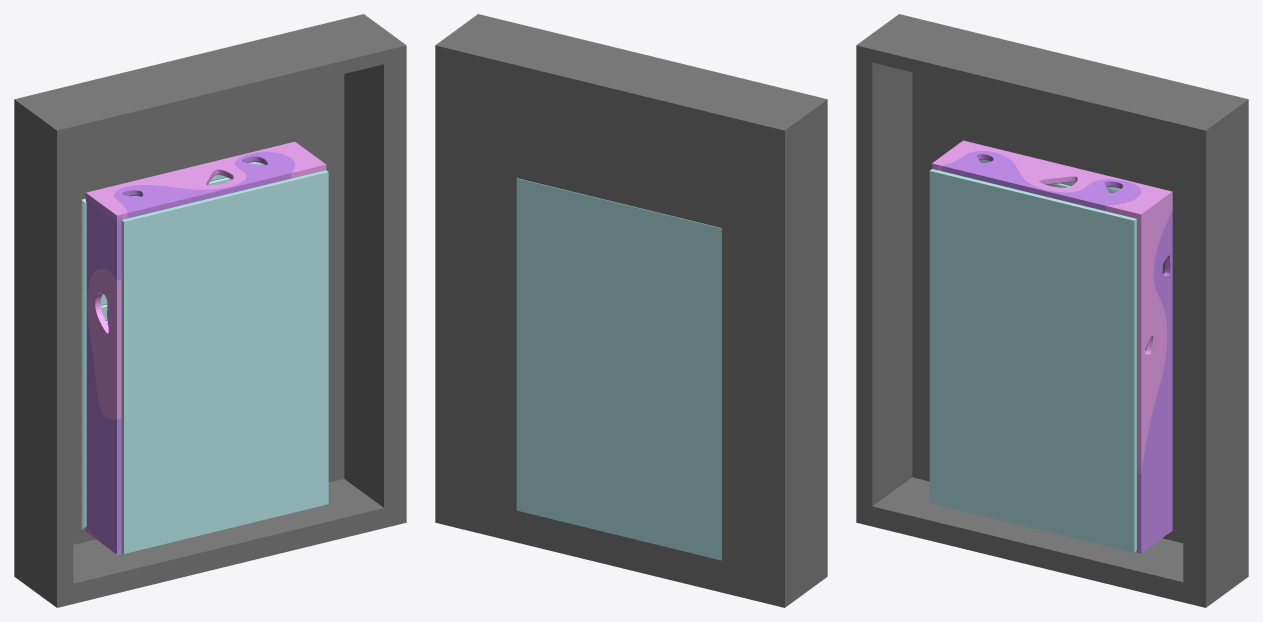
Rendered from Video Room.fbx.
The picture shows the model from 3 angles, left to right: view 1: azimuth 30°, elevation 25°; view 2: azimuth 150°, elevation 25°; view 3: azimuth 330°, elevation 25°; orthographic projection.
Visible parts, largest first — view 1: Object_5, roof, wall1, wall2, floor2; view 2: Object_5, floor2; view 3: Object_5, roof, wall1, wall2.
Boxes of the visible parts, left/top/right/bottom form: Object_5: left=14, top=14, right=406, bottom=607; roof: left=121, top=170, right=328, bottom=553; wall1: left=85, top=151, right=294, bottom=554; wall2: left=85, top=141, right=326, bottom=554; floor2: left=81, top=162, right=264, bottom=529; Object_5: left=435, top=14, right=827, bottom=607; floor2: left=516, top=178, right=721, bottom=560; Object_5: left=856, top=14, right=1248, bottom=607; roof: left=929, top=169, right=1136, bottom=552; wall1: left=932, top=151, right=1172, bottom=553; wall2: left=932, top=140, right=1172, bottom=553.
Bounding box in the file's own units: 11.53 × 15.04 × 2.47.
